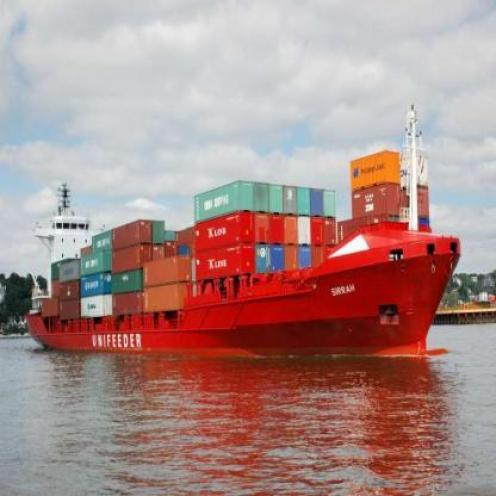Ship: (14, 192, 466, 355)
